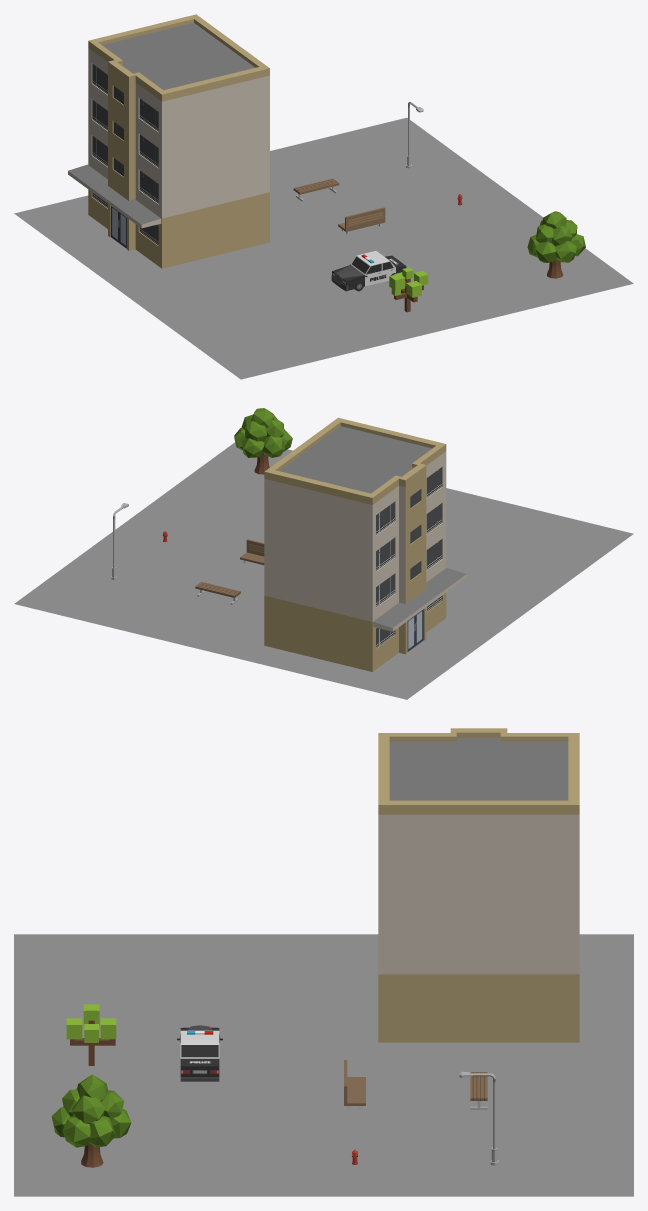
File: remix-civic-plaza.glb
3 views of the same model, one above another, from view 1: azimuth 30°, elevation 25°; view 2: azimuth 150°, elevation 25°; view 3: azimuth 270°, elevation 25° (orthographic). The views are drawn at different scales.
Visible parts, largest first — view 1: Road Concrete Tile_Plane.010, Building Sky_small_color01_Cube.028, Natures_Big Tree_Mesh.008, Vehicle_Police Car_Cube.036, Natures_Cube Tree_Cube.017, Props_Bench_2_Cube.022; view 2: Road Concrete Tile_Plane.010, Building Sky_small_color01_Cube.028, Natures_Big Tree_Mesh.008, Props_Bench_2_Cube.022, Props_Bench_1_Cube.023; view 3: Road Concrete Tile_Plane.010, Building Sky_small_color01_Cube.028, Natures_Big Tree_Mesh.008, Vehicle_Police Car_Cube.036, Natures_Cube Tree_Cube.017, Props_Bench_2_Cube.022.
Part boxes in pixels (box(x1,y1,x2,y2)): Road Concrete Tile_Plane.010: box(14, 117, 633, 379); Building Sky_small_color01_Cube.028: box(68, 14, 269, 268); Natures_Big Tree_Mesh.008: box(527, 211, 585, 278); Vehicle_Police Car_Cube.036: box(331, 251, 406, 291); Natures_Cube Tree_Cube.017: box(389, 267, 428, 312); Props_Bench_2_Cube.022: box(338, 207, 385, 234); Road Concrete Tile_Plane.010: box(14, 442, 633, 699); Building Sky_small_color01_Cube.028: box(264, 417, 466, 671); Natures_Big Tree_Mesh.008: box(234, 408, 292, 474); Props_Bench_2_Cube.022: box(240, 539, 264, 565); Props_Bench_1_Cube.023: box(195, 582, 240, 604); Road Concrete Tile_Plane.010: box(14, 934, 633, 1196); Building Sky_small_color01_Cube.028: box(378, 728, 579, 1042); Natures_Big Tree_Mesh.008: box(51, 1074, 131, 1167); Vehicle_Police Car_Cube.036: box(177, 1025, 222, 1081); Natures_Cube Tree_Cube.017: box(66, 1004, 116, 1065); Props_Bench_2_Cube.022: box(344, 1060, 365, 1109).
Size of the model in its own units: 40 by 16.93 by 40.
Materials: 5 (5 with a texture image).
